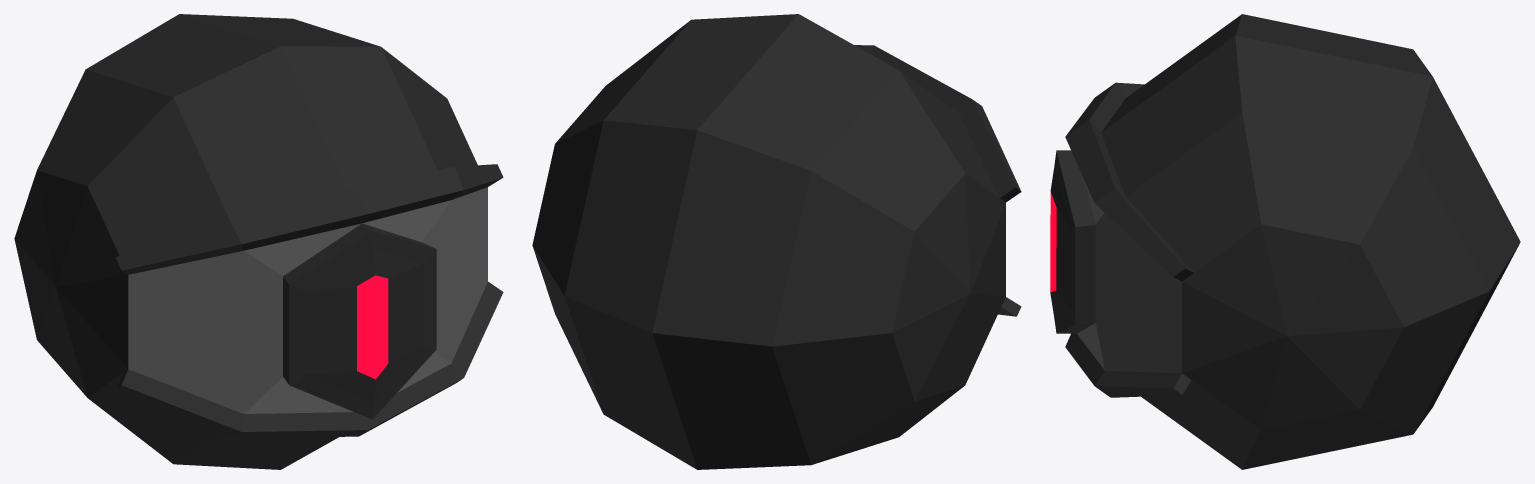
File: FlyingEnemy.fbx
3 views of the same model, side by side, from view 1: azimuth 30°, elevation 25°; view 2: azimuth 150°, elevation 25°; view 3: azimuth 270°, elevation 25° (orthographic). The views are drawn at different scales.
Visible parts, largest first — view 1: Sphere; view 2: Sphere; view 3: Sphere.
Boxes of the visible parts, left/top/right/bottom form: Sphere: left=14, top=14, right=503, bottom=469; Sphere: left=532, top=14, right=1021, bottom=469; Sphere: left=1050, top=14, right=1520, bottom=469.
Bounding box in the file's own units: 191 × 195 × 202.
